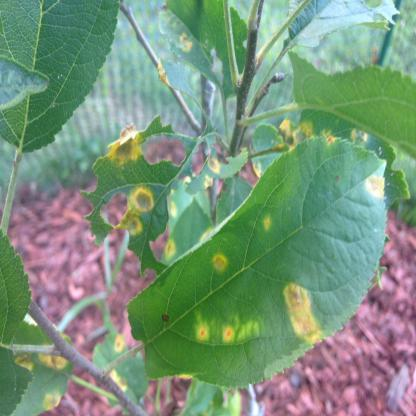apple rust leaf: (128, 133, 400, 402)
